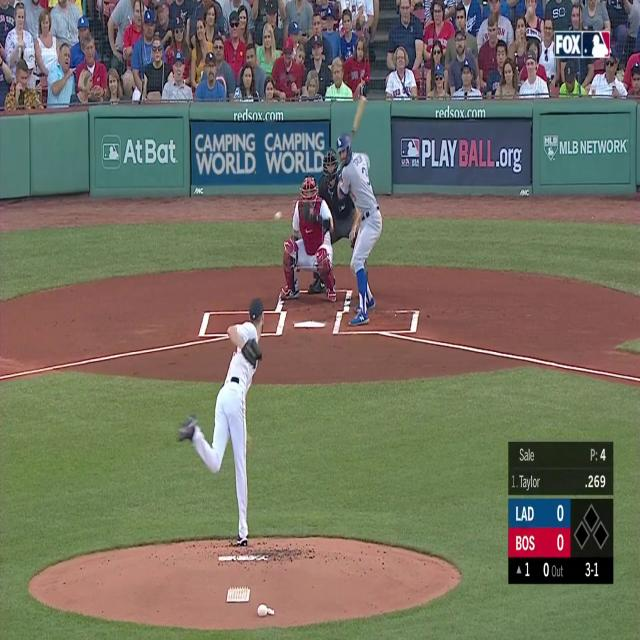baseball: (274, 210, 282, 222)
